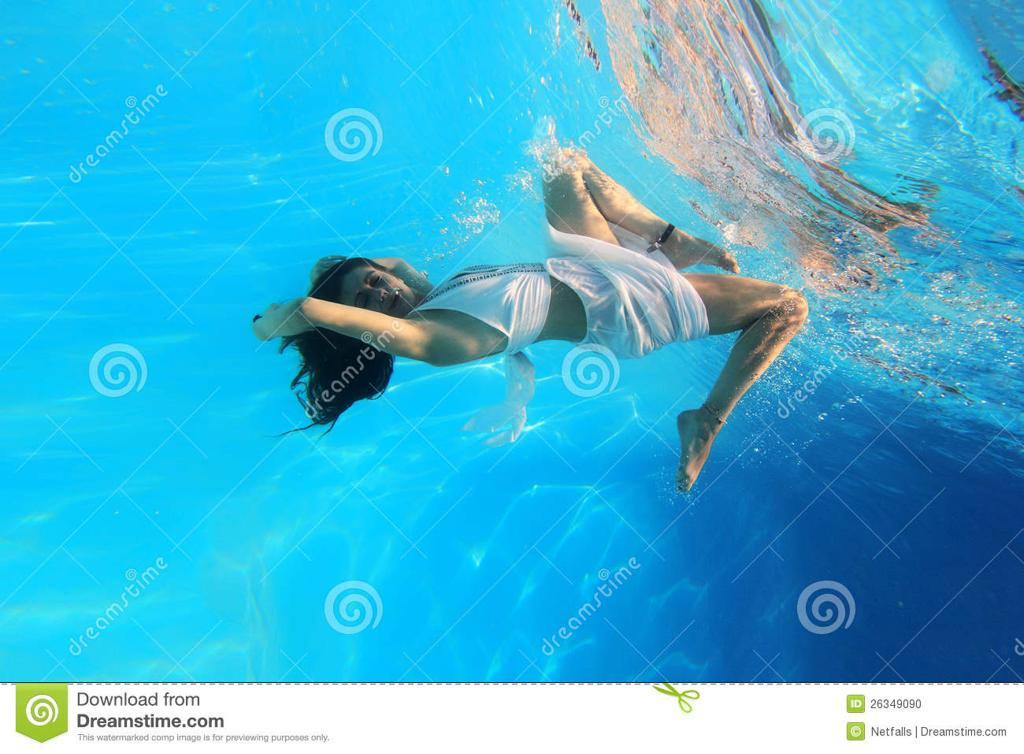face: (336, 262, 412, 324)
